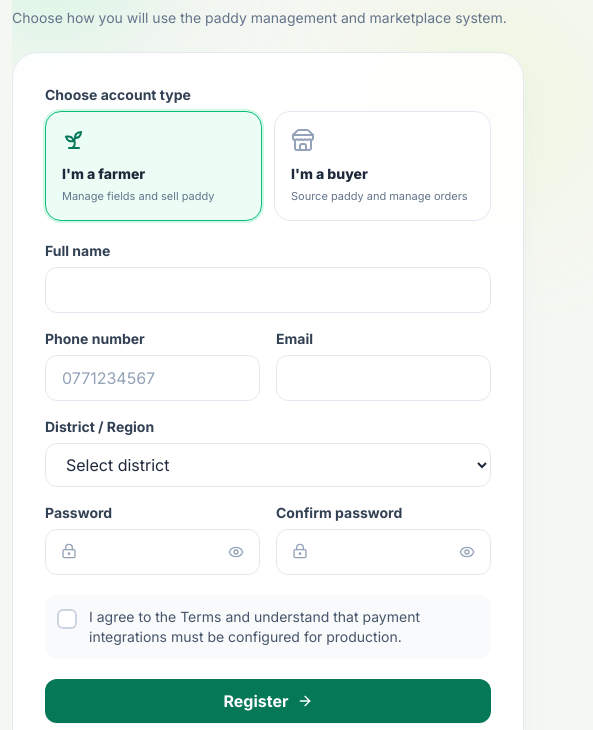
Test case: RegisterForm › shows validation errors
Click the button "Register".
click(268, 701)  # box [45,679,491,723]
(page scrolled)
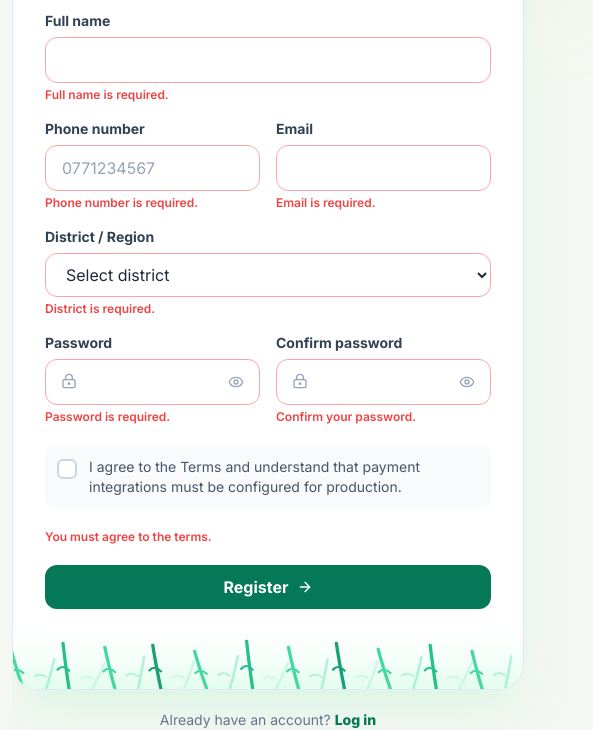
Result: the text "Full name is required." is shown at [45,87,169,102]
Result: the text "Phone number is required." is shown at [45,195,198,210]
Result: the text "Email is required." is shown at [276,195,376,210]
